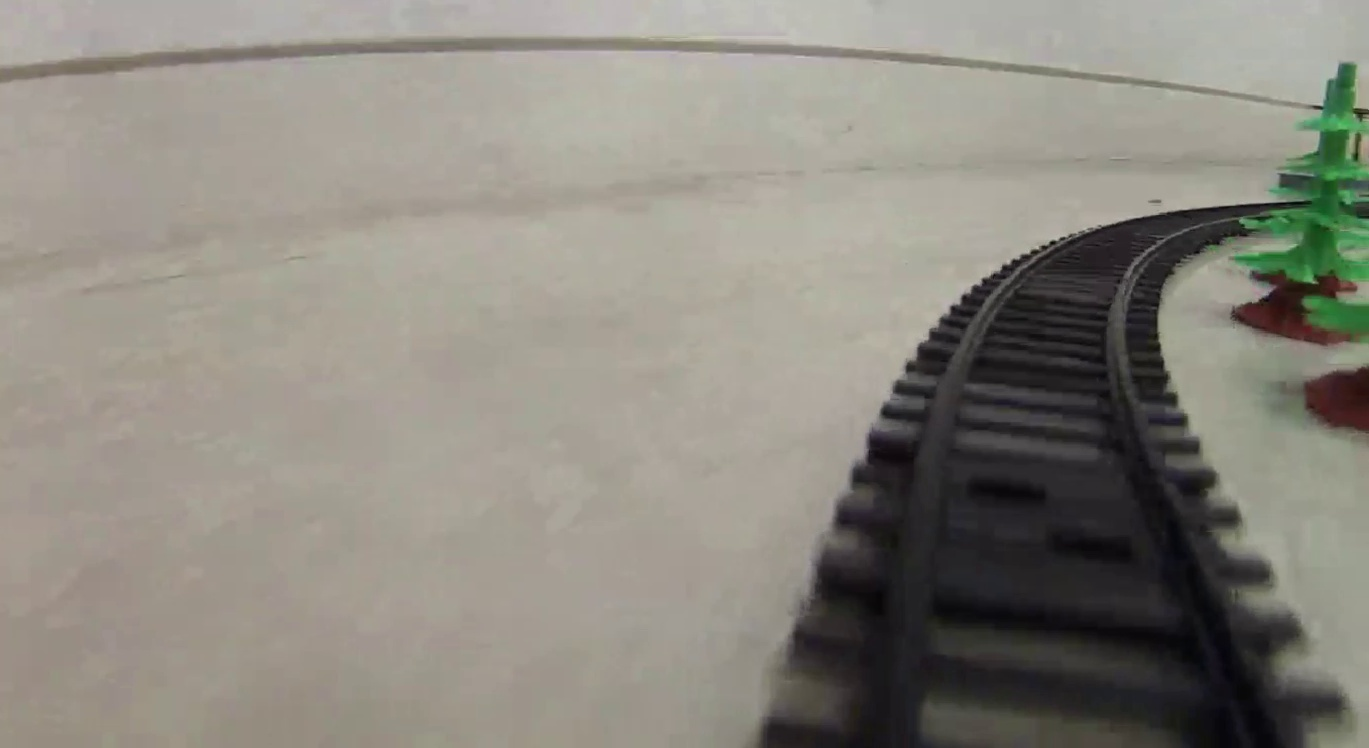tree: (1233, 62, 1369, 345)
